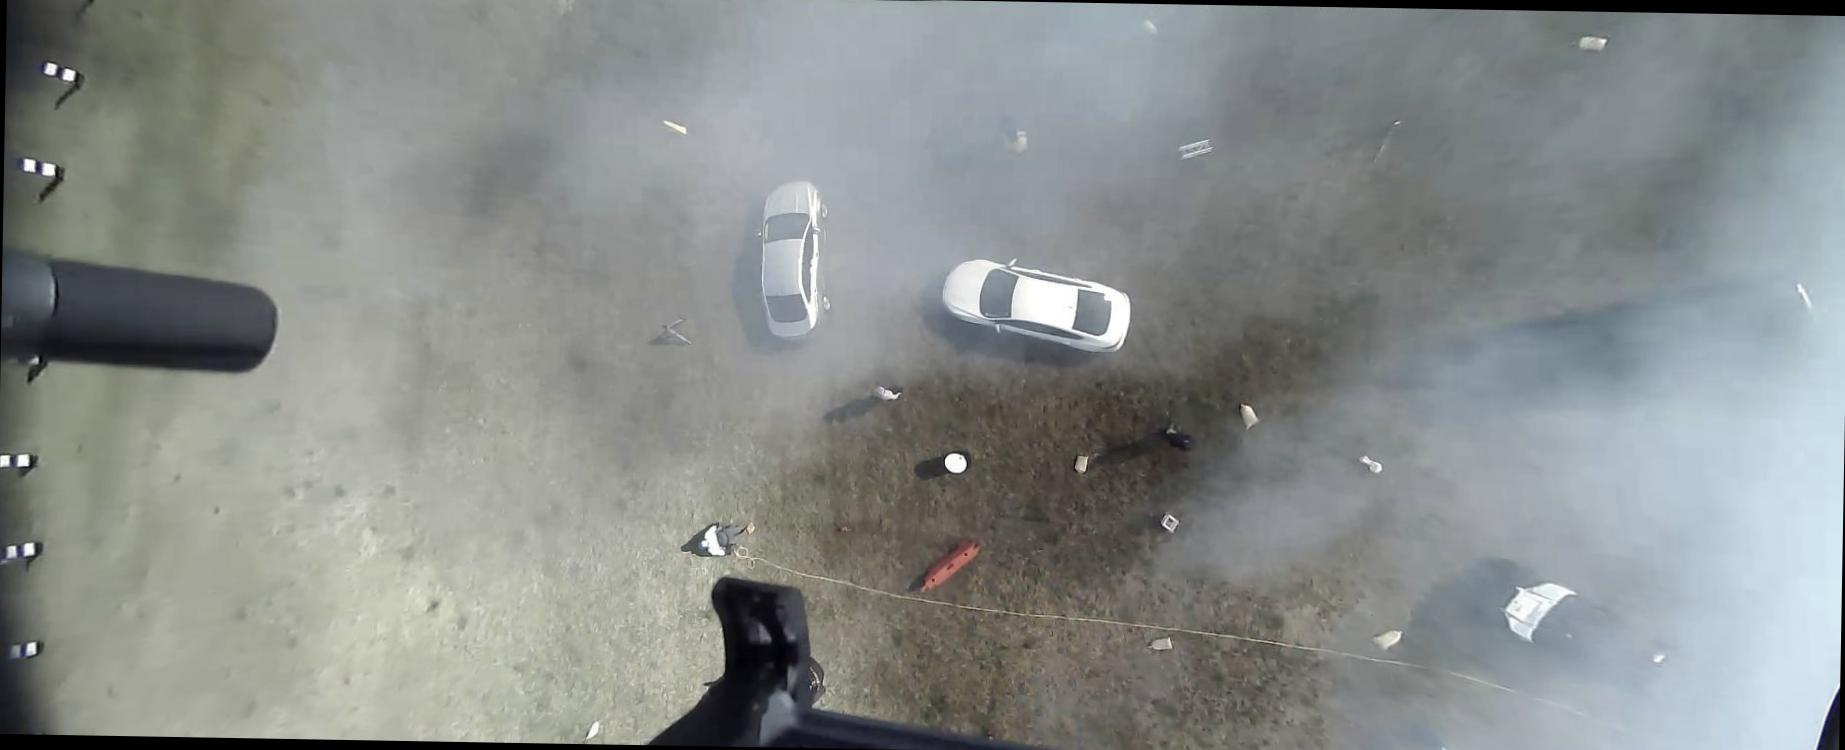vehicle: (1481, 274, 1819, 425), (1488, 571, 1681, 702), (939, 255, 1133, 356), (755, 180, 835, 343)
